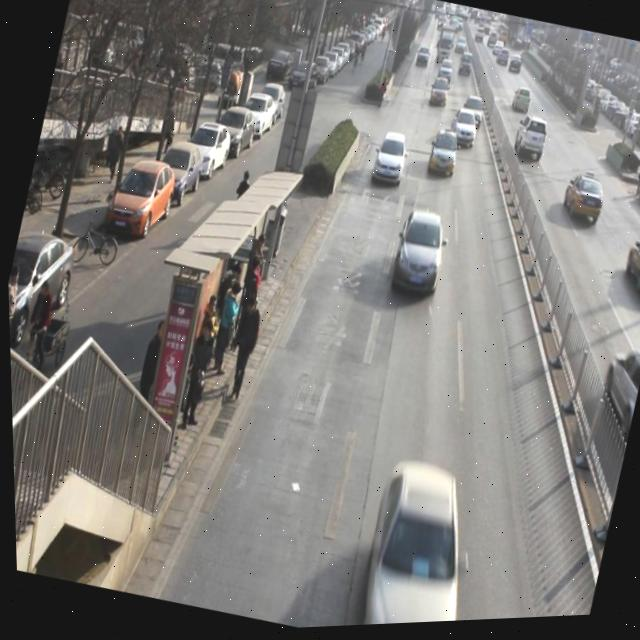car: (343, 453, 492, 628), (383, 207, 454, 307), (587, 342, 640, 449), (557, 171, 610, 235), (367, 130, 412, 193), (508, 116, 551, 169), (423, 128, 462, 185), (616, 232, 640, 308), (444, 108, 481, 155), (459, 98, 488, 131), (426, 80, 451, 110), (510, 90, 533, 121)
